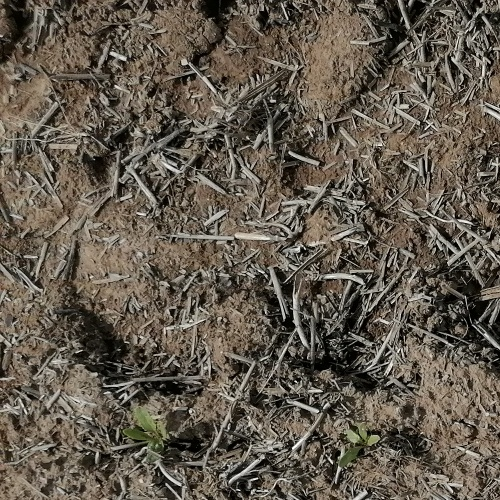beet: (125, 405, 169, 456), (339, 424, 382, 474)
